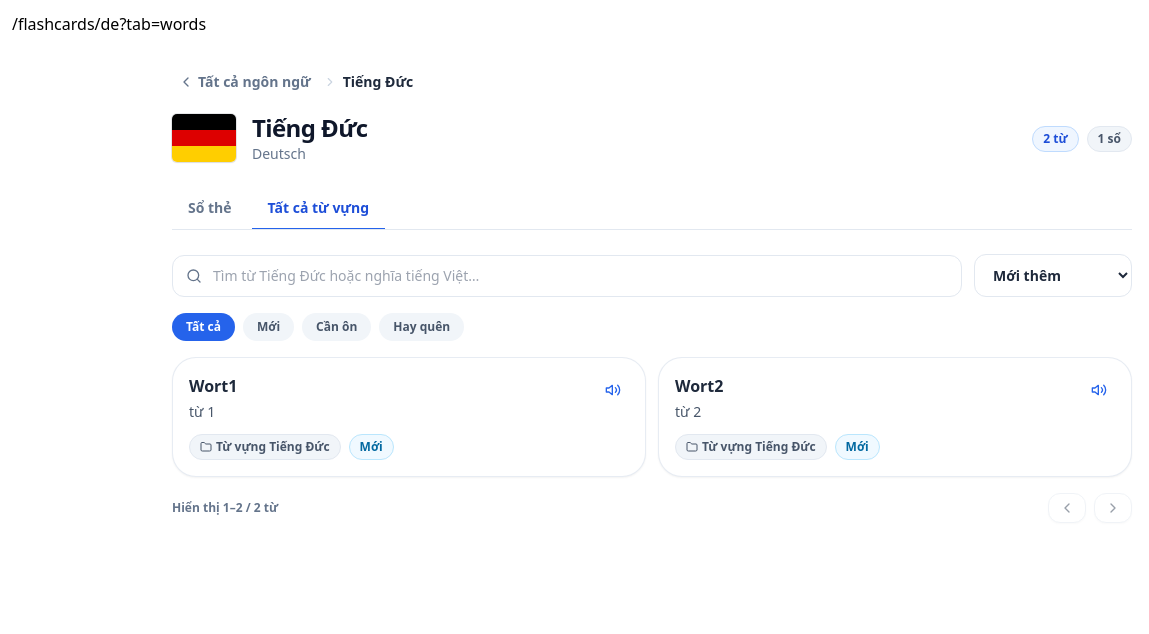
Test: FlashcardPage — điều hướng theo ngôn ngữ › tìm không thấy: thông báo khác với trạng thái rỗng ban đầu
This screenshot has width=1149, height=634.
Expected: the heading "Wort1" is shown, [189,374,237,398]
Type "zzz" into the search field named "Tìm từ vựng" at (567, 276), box [172,254,962,296]
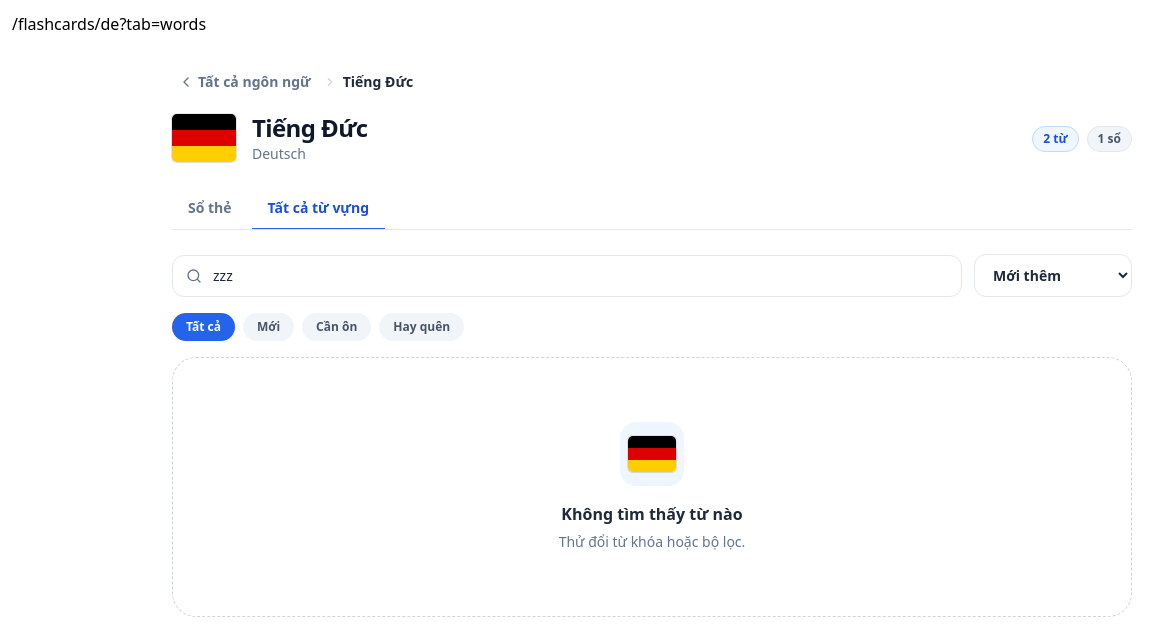
Expected: the heading "Không tìm thấy từ nào" is shown, [561,502,743,526]
